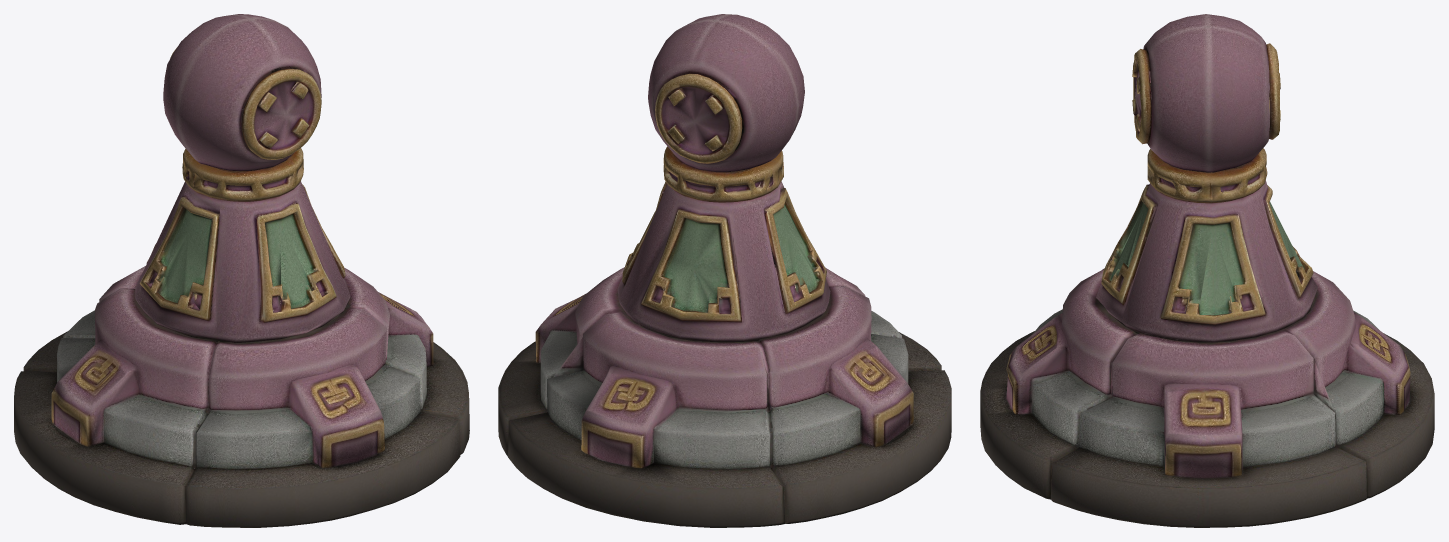
File: tripo_convert_52f23bea-3b8f-4776-876e-2d95b1cb0054.fbx
3 renders of one model, left to right at view 1: azimuth 30°, elevation 25°; view 2: azimuth 150°, elevation 25°; view 3: azimuth 270°, elevation 25°, orthographic.
Visible parts, largest first — view 1: tripo_node_52f23bea; view 2: tripo_node_52f23bea; view 3: tripo_node_52f23bea.
Part boxes in pixels (bbox=[...]): tripo_node_52f23bea: bbox=[14, 14, 469, 527]; tripo_node_52f23bea: bbox=[498, 14, 951, 527]; tripo_node_52f23bea: bbox=[980, 14, 1434, 527].
Bounding box in the file's own units: 0.998 × 0.998 × 0.998.
Materials: 1 (1 with a texture image).
